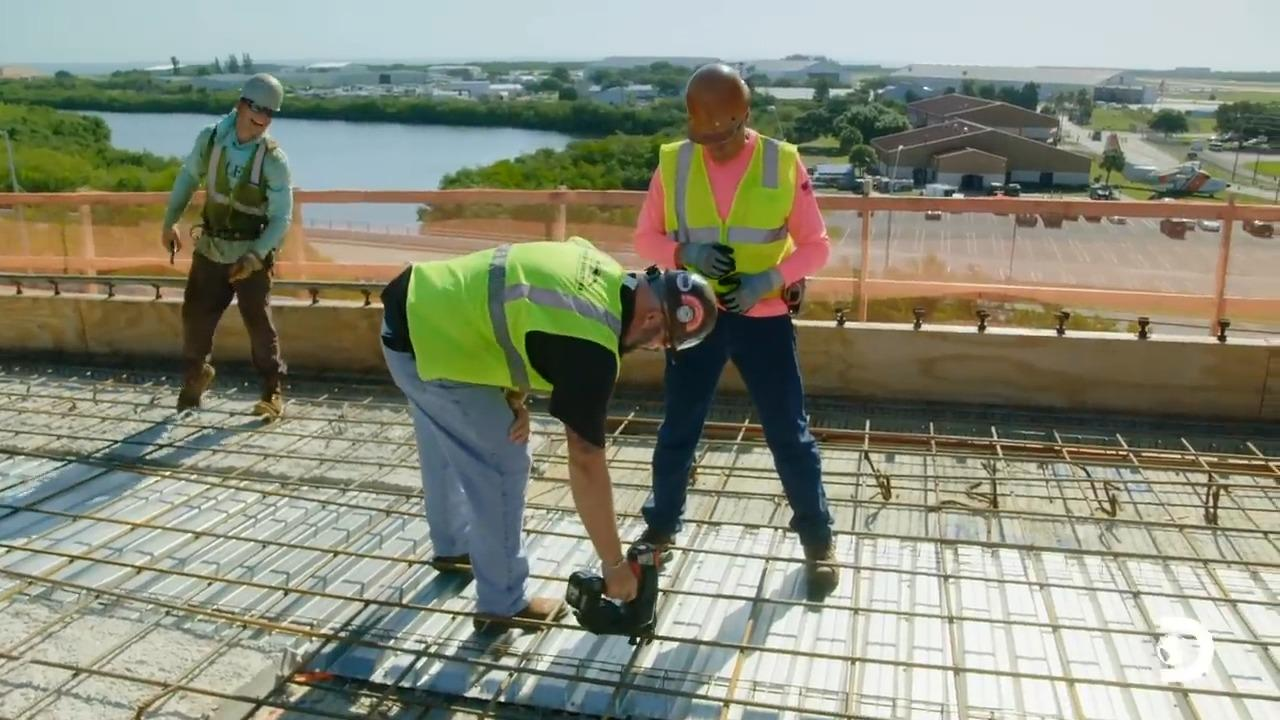Gloves: (717, 265, 780, 308), (226, 250, 259, 284), (157, 224, 184, 258)
Helmet: (643, 253, 719, 354), (684, 62, 750, 145), (239, 72, 283, 112)
Person: (378, 235, 719, 631), (628, 61, 838, 592), (161, 71, 293, 423)
Safety Boot: (464, 593, 556, 631), (798, 536, 833, 587), (635, 529, 679, 569), (180, 372, 209, 413), (431, 548, 471, 577), (253, 392, 283, 419)
Safety Vest: (425, 261, 611, 366), (669, 146, 786, 282), (204, 137, 275, 252)
bare-arms: (602, 553, 639, 600)
